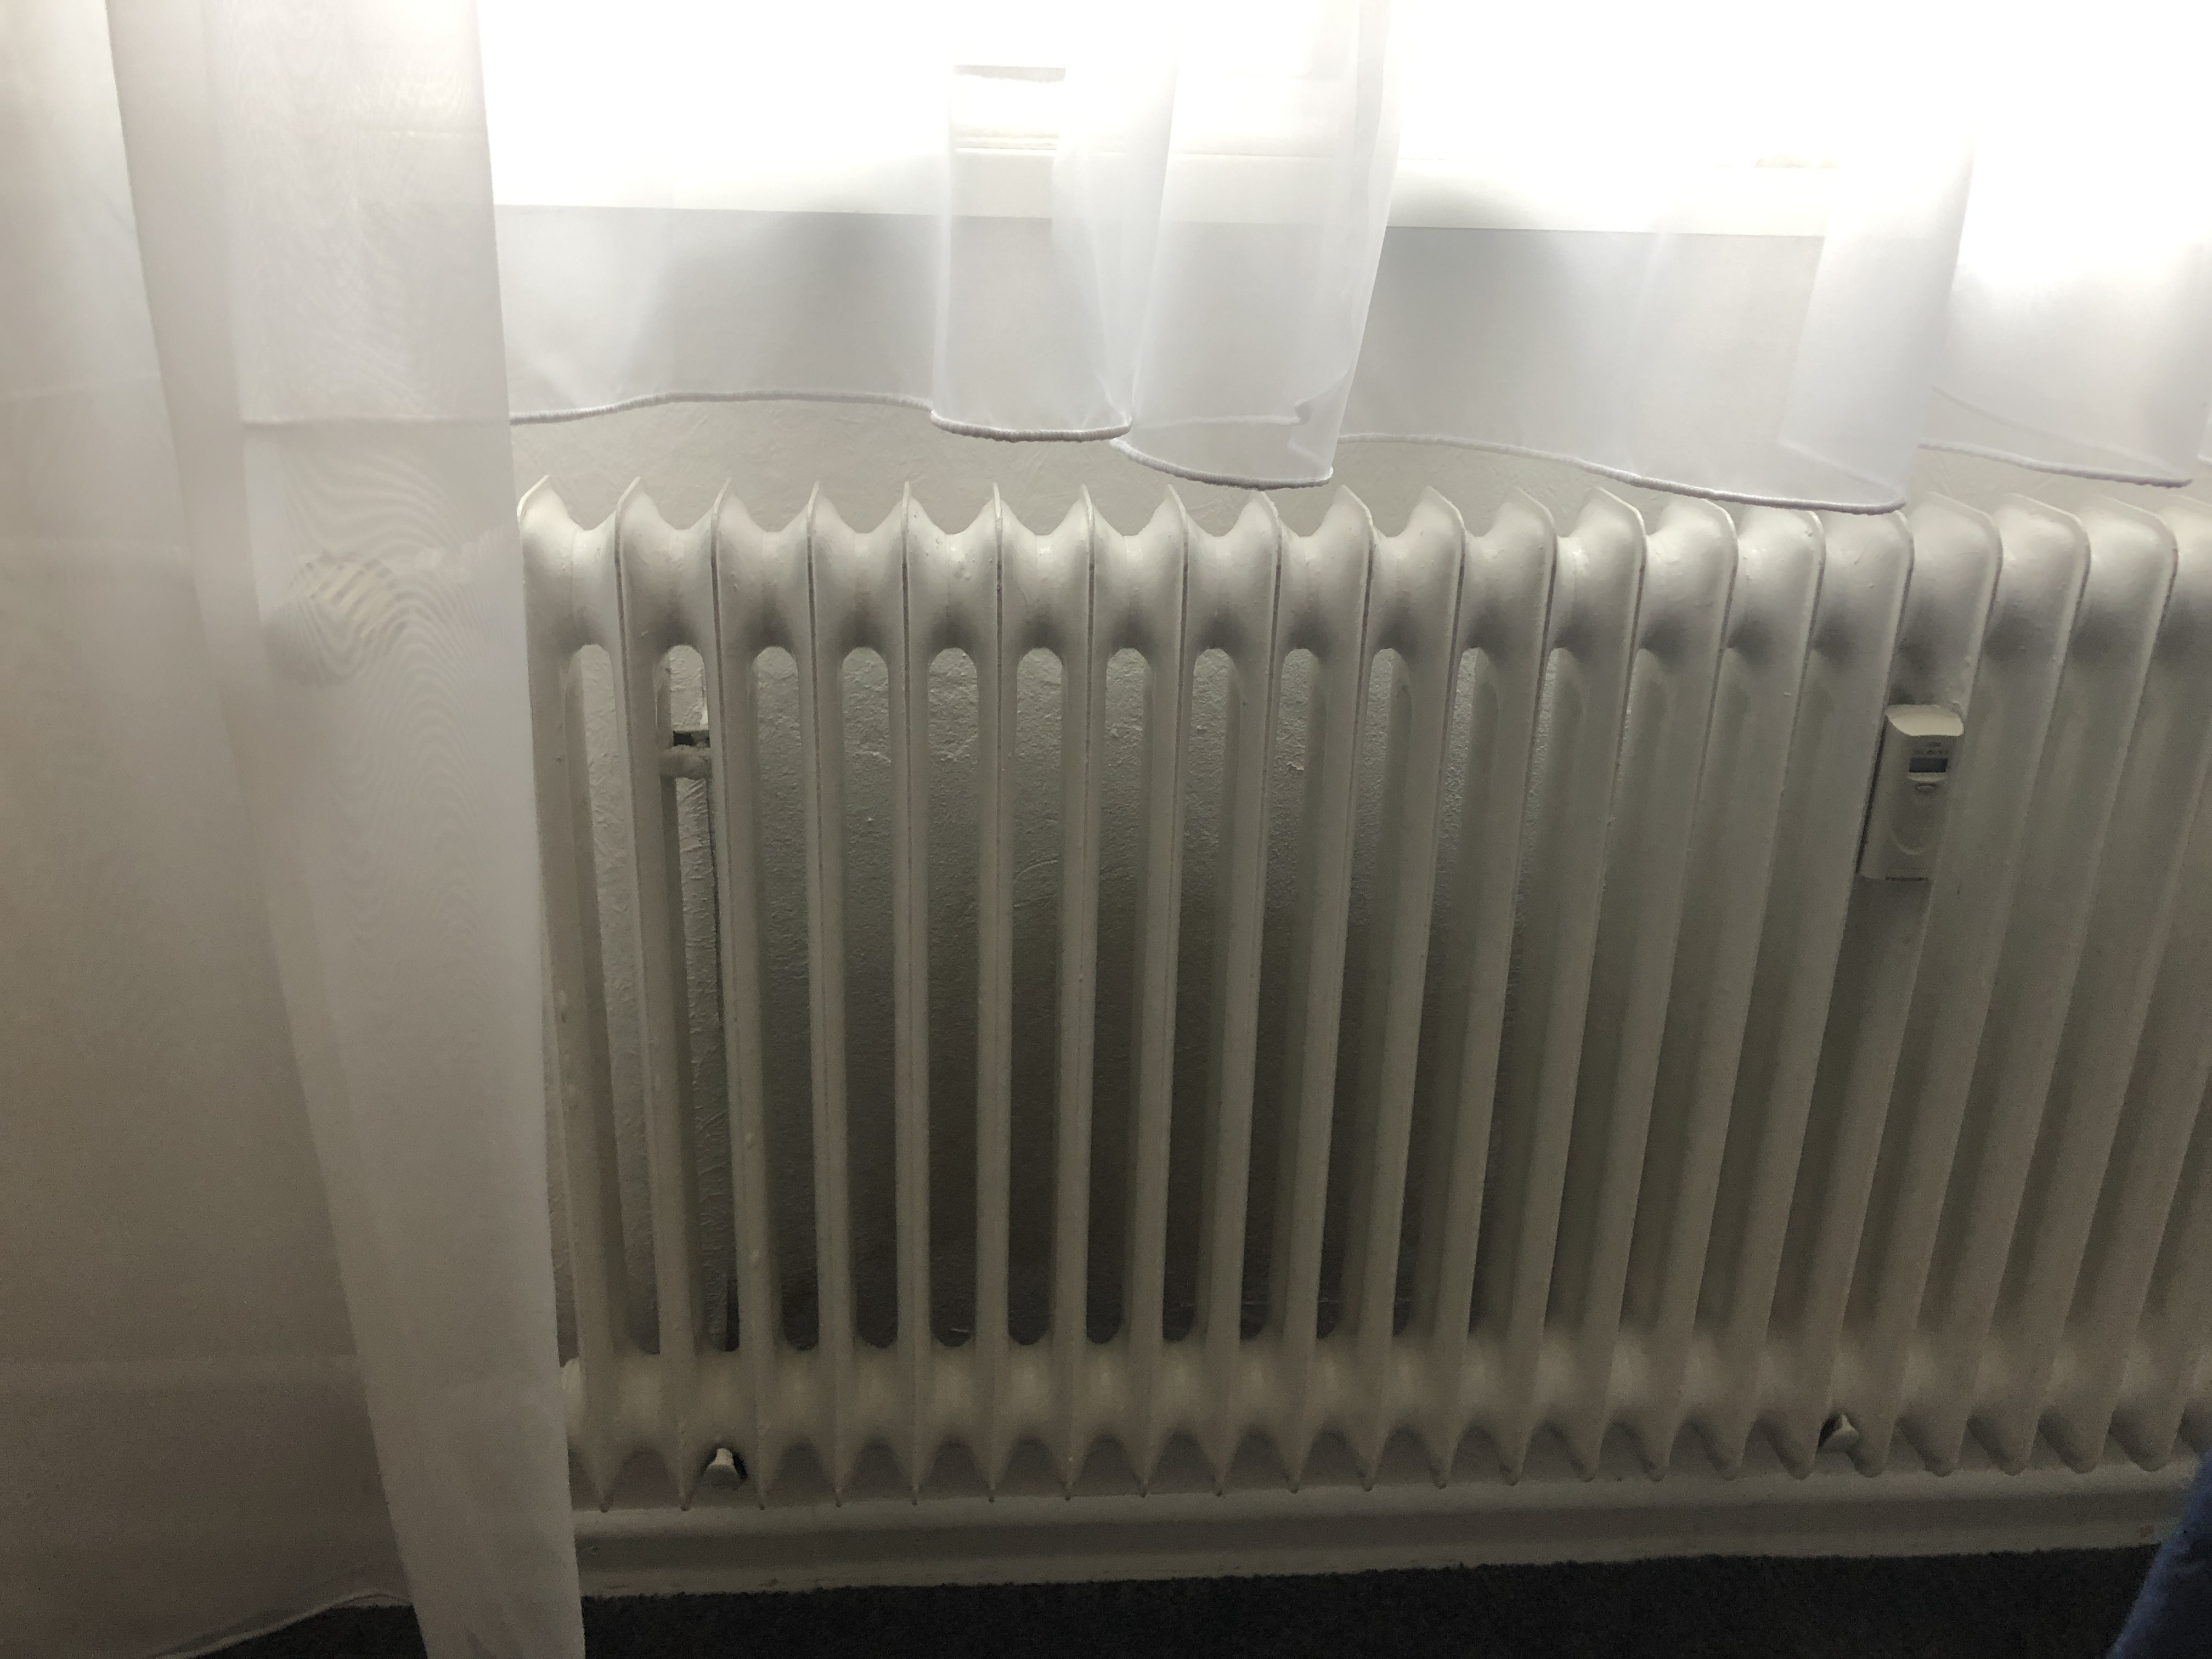Radiator: (260, 469, 2212, 1527)
